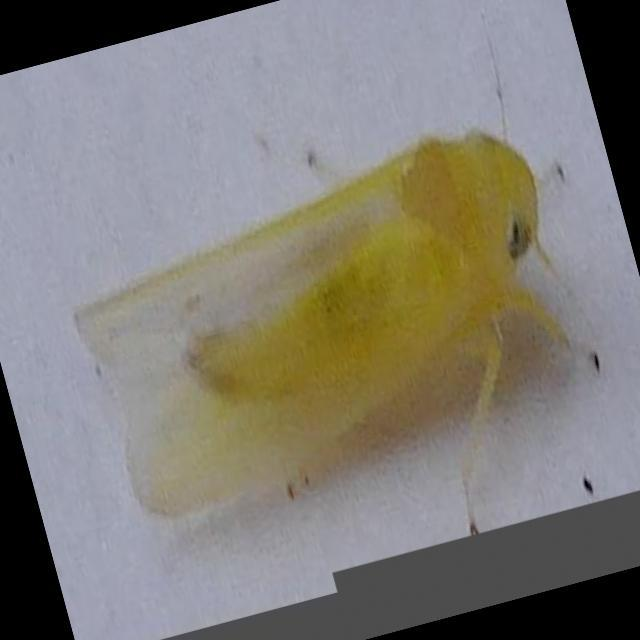green leaf hopper: (75, 132, 587, 529)
